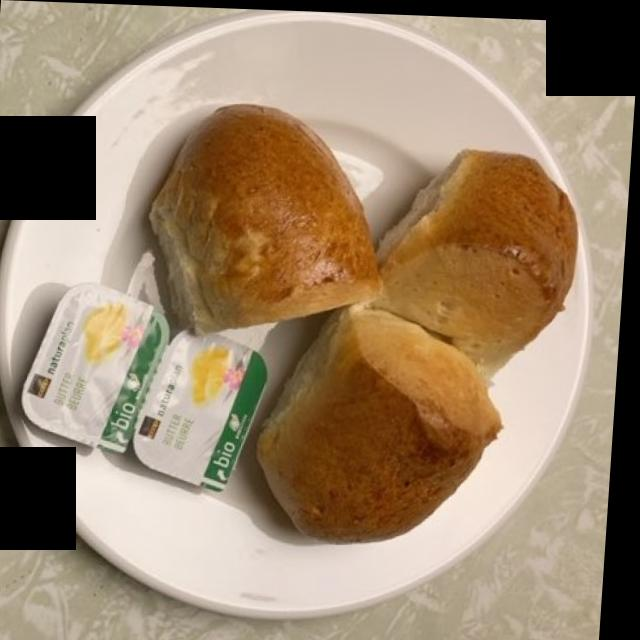bread-white: (128, 96, 574, 539)
butter: (18, 279, 277, 495)
